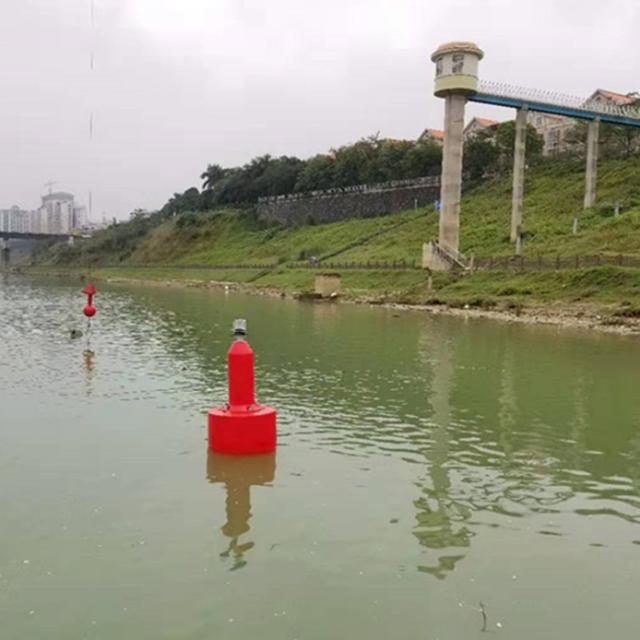buoy: (208, 313, 283, 452)
